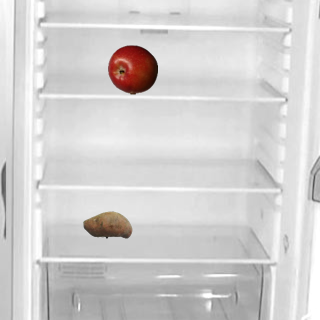Apple Braeburn: (107, 44, 157, 94)
Potato Sweet: (82, 199, 132, 249)
